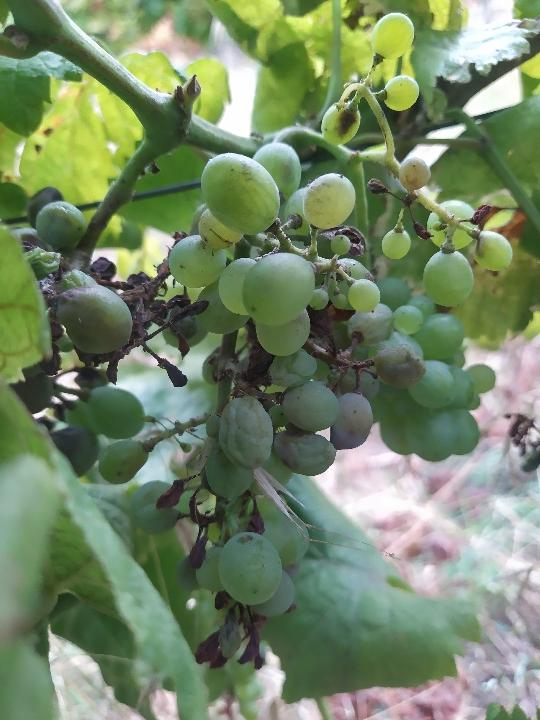grape: (36, 139, 430, 673)
